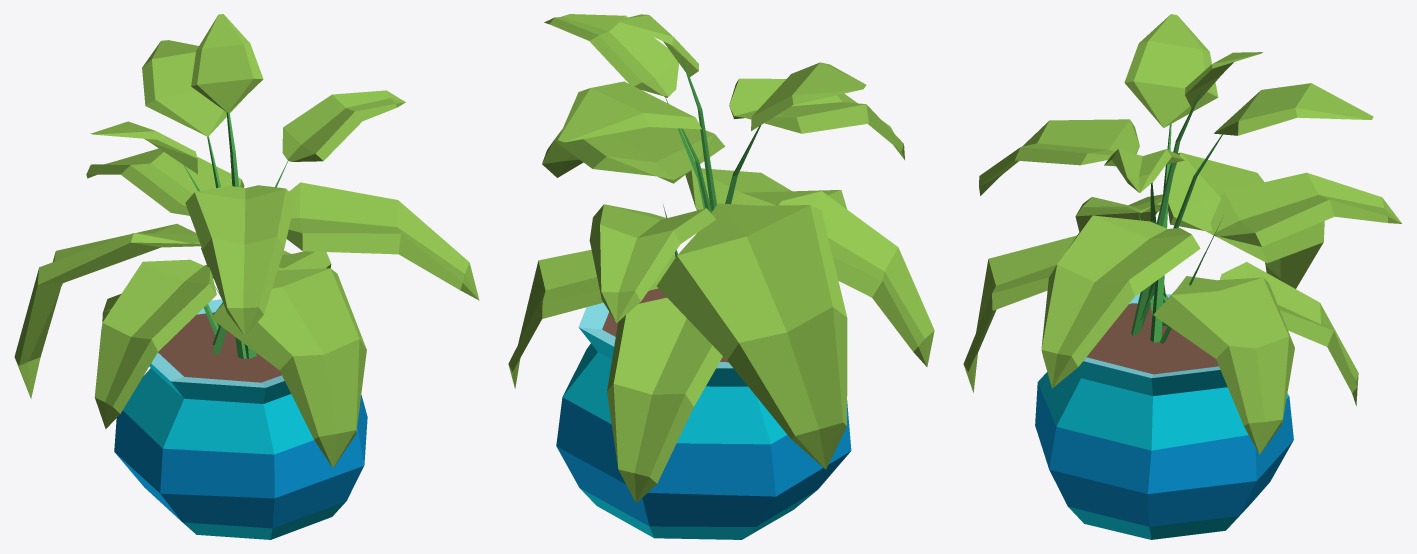
Rendered from obj-pot-plant.glb.
3 renders of one model, left to right at view 1: azimuth 30°, elevation 25°; view 2: azimuth 150°, elevation 25°; view 3: azimuth 270°, elevation 25°, orthographic. The views are drawn at different scales.
Visible parts, largest first — view 1: Pot Plant; view 2: Pot Plant; view 3: Pot Plant.
Boxes of the visible parts, box(x1,y1,x2,y2) form: Pot Plant: box(14, 14, 479, 539); Pot Plant: box(508, 14, 934, 539); Pot Plant: box(963, 14, 1401, 539).
Bounding box in the file's own units: 0.5715 × 0.6897 × 0.589.
